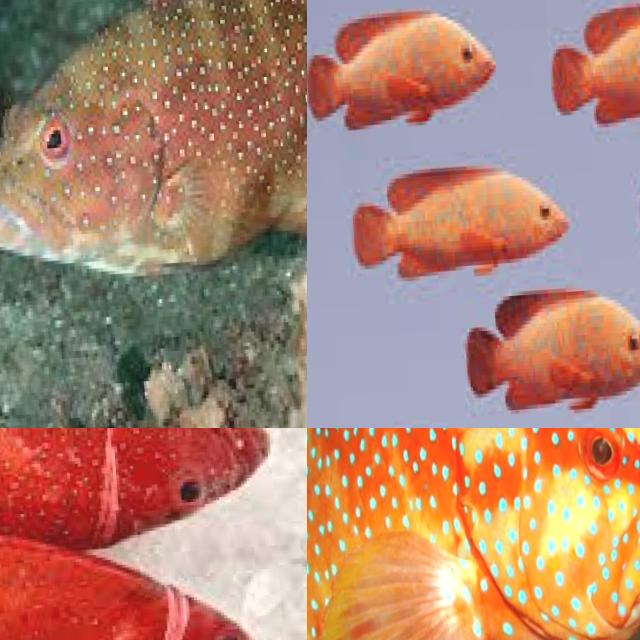Plectropomus-leopardus: (0, 0, 307, 290), (307, 428, 640, 640), (0, 428, 307, 606), (0, 465, 307, 640), (340, 140, 586, 300), (307, 0, 519, 138), (465, 264, 640, 428), (514, 0, 640, 139)
